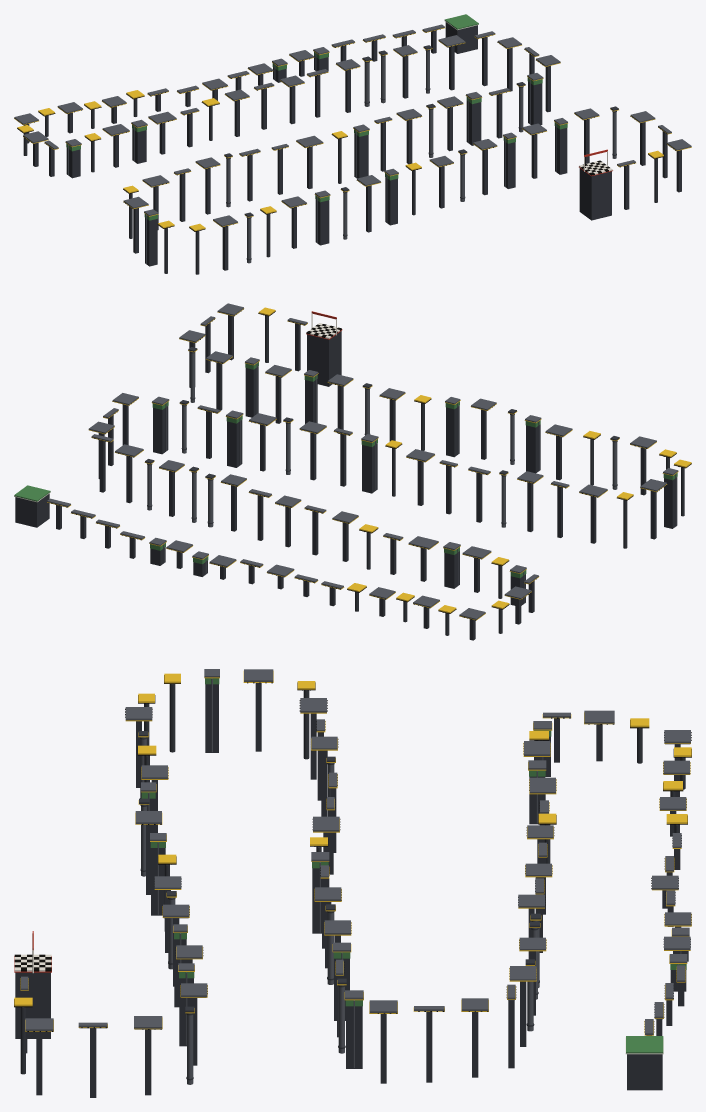
Rendered from montagem.glb.
The picture shows the model from 3 angles, top to bottom: view 1: azimuth 30°, elevation 25°; view 2: azimuth 150°, elevation 25°; view 3: azimuth 270°, elevation 25°; orthographic projection. The views are drawn at different scales.
Visible parts, largest first — view 1: map_bh_steel_dark.001, map_bh_steel.001, map_bh_yellow.001, map_bh_green.001, map_bh_ink.001; view 2: map_bh_steel_dark.001, map_bh_steel.001, map_bh_yellow.001, map_bh_green.001, map_bh_ink.001; view 3: map_bh_steel_dark.001, map_bh_steel.001, map_bh_yellow.001, map_bh_green.001, map_bh_ink.001.
Boxes of the visible parts, left/top/right/bottom form: map_bh_steel_dark.001: left=23, top=22, right=681, bottom=274; map_bh_steel.001: left=14, top=24, right=691, bottom=264; map_bh_yellow.001: left=14, top=27, right=691, bottom=231; map_bh_green.001: left=66, top=14, right=567, bottom=220; map_bh_ink.001: left=17, top=29, right=675, bottom=231; map_bh_steel_dark.001: left=15, top=315, right=684, bottom=640; map_bh_steel.001: left=47, top=303, right=681, bottom=619; map_bh_yellow.001: left=47, top=307, right=691, bottom=620; map_bh_green.001: left=14, top=362, right=677, bottom=578; map_bh_ink.001: left=51, top=309, right=691, bottom=620; map_bh_steel_dark.001: left=15, top=683, right=688, bottom=1097; map_bh_steel.001: left=21, top=669, right=691, bottom=1084; map_bh_yellow.001: left=14, top=671, right=691, bottom=1035; map_bh_green.001: left=141, top=678, right=686, bottom=1053; map_bh_ink.001: left=14, top=675, right=691, bottom=1032.
Bounding box in the file's own units: 138 × 16.55 × 111.
